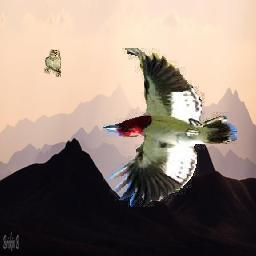Sparrow: (45, 49, 62, 77)
Woodpecker: (103, 49, 237, 208)
